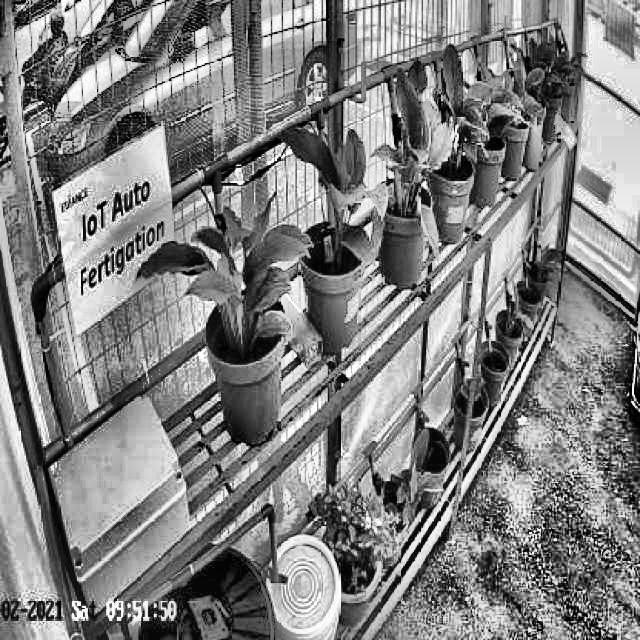plants: (134, 208, 310, 352), (276, 114, 387, 272), (374, 68, 446, 266), (418, 42, 488, 198)
